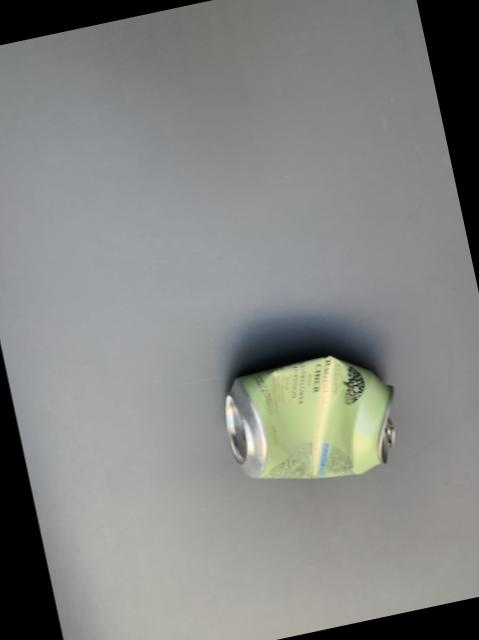metal: (226, 356, 395, 478)
